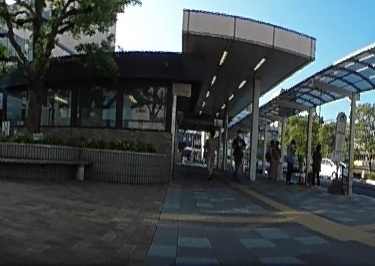person: (232, 127, 247, 176), (205, 126, 219, 175), (284, 137, 297, 182), (310, 142, 323, 186), (271, 138, 281, 182)
